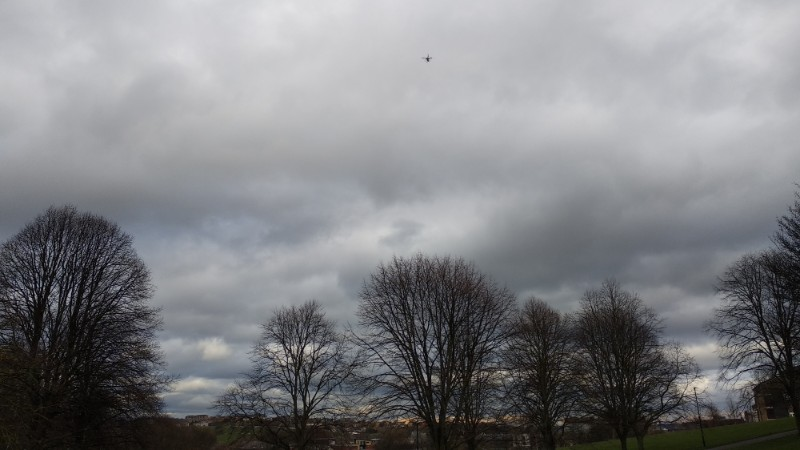drone: (423, 55, 433, 64)
